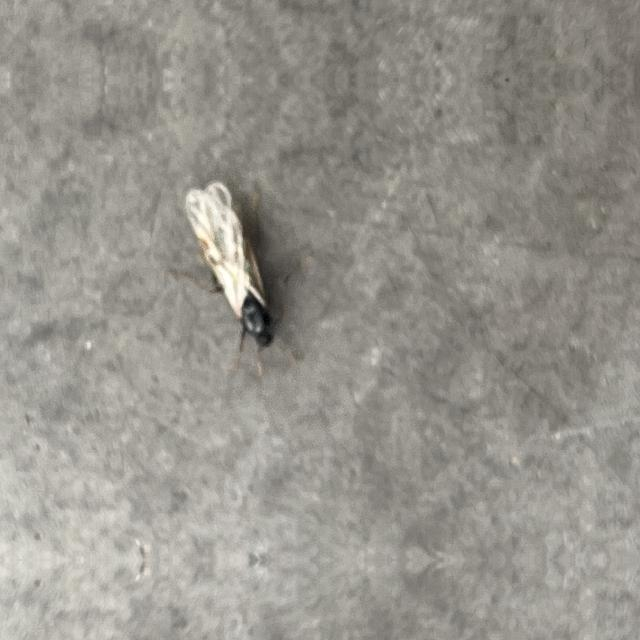Tetramorium: (145, 159, 309, 359)
